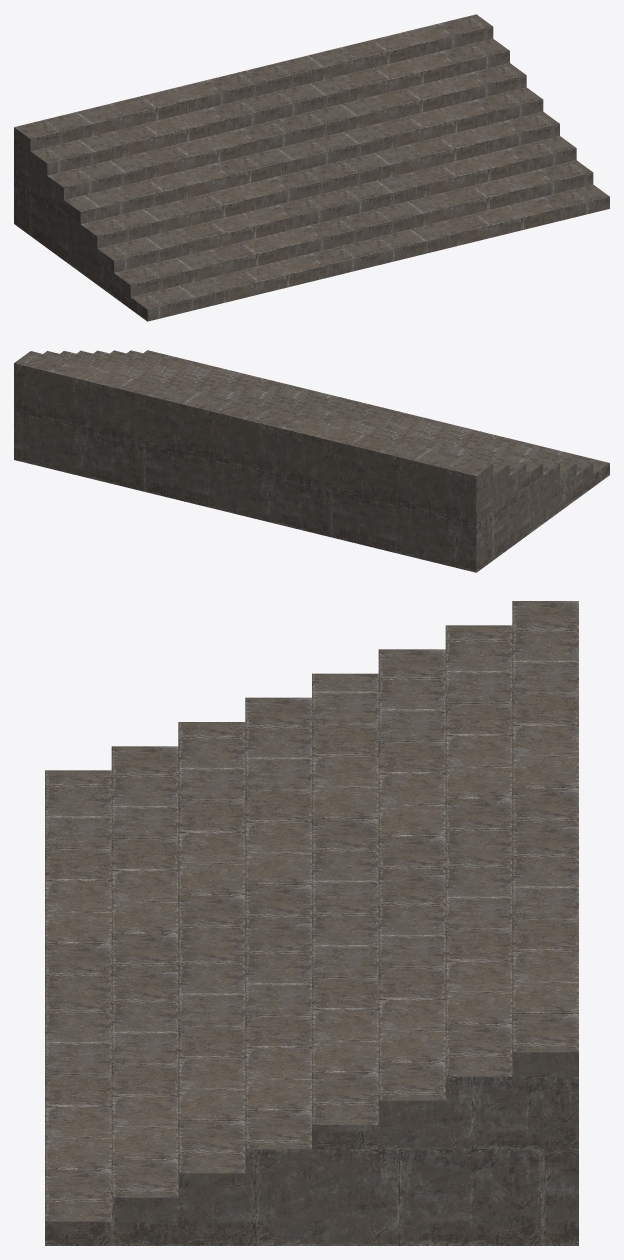
Rendered from stair2.fbx.
3 views of the same model, one above another, from view 1: azimuth 30°, elevation 25°; view 2: azimuth 150°, elevation 25°; view 3: azimuth 270°, elevation 25° (orthographic). The views are drawn at different scales.
Visible parts, largest first — view 1: Trim_Stairs_simple_8x4x2; view 2: Trim_Stairs_simple_8x4x2; view 3: Trim_Stairs_simple_8x4x2.
Part boxes in pixels (bbox=[...]): Trim_Stairs_simple_8x4x2: bbox=[14, 14, 609, 321]; Trim_Stairs_simple_8x4x2: bbox=[14, 350, 609, 572]; Trim_Stairs_simple_8x4x2: bbox=[45, 601, 578, 1245].
Bounding box in the file's own units: 800 × 160 × 400.
